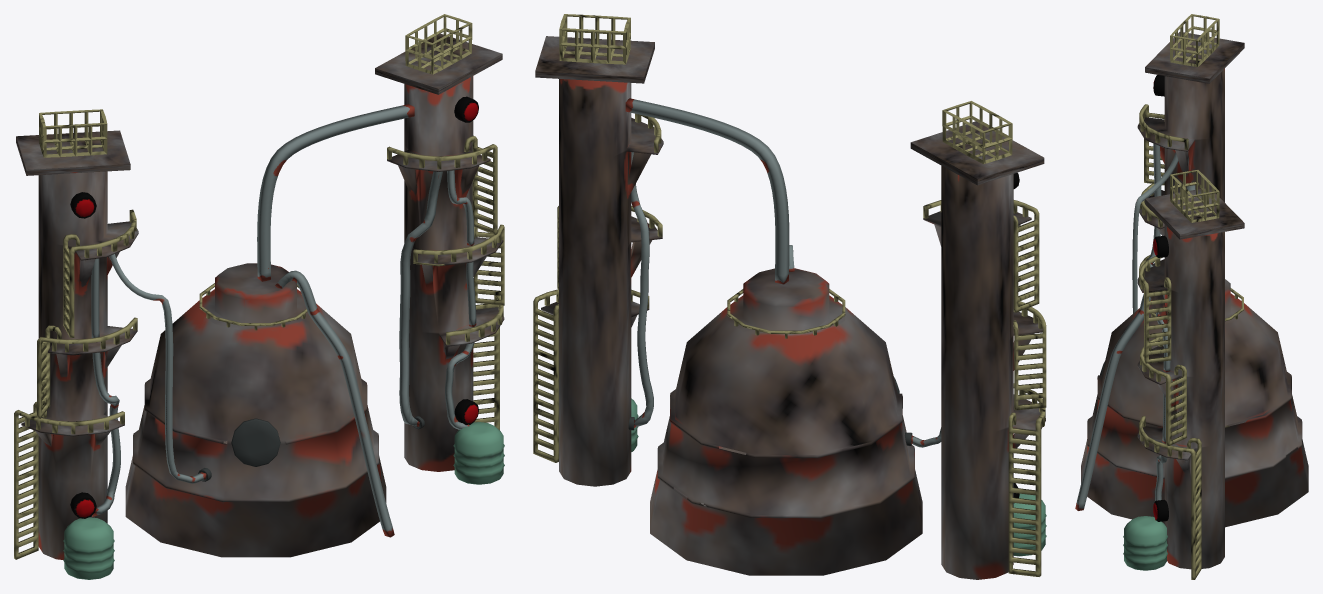
The model's file is centralNuevaAcabada.fbx.
3 renders of one model, left to right at view 1: azimuth 30°, elevation 25°; view 2: azimuth 150°, elevation 25°; view 3: azimuth 270°, elevation 25°, orthographic. The views are drawn at different scales.
Parts seen in each view (by area): view 1: fabrica; view 2: fabrica; view 3: fabrica.
Part boxes in pixels (x1,y1,x2,y2): fabrica: (14, 14, 504, 579); fabrica: (533, 14, 1046, 579); fabrica: (1075, 14, 1308, 579).
Bounding box in the file's own units: 2269 × 1926 × 1086.
1 material, 1 textured.
